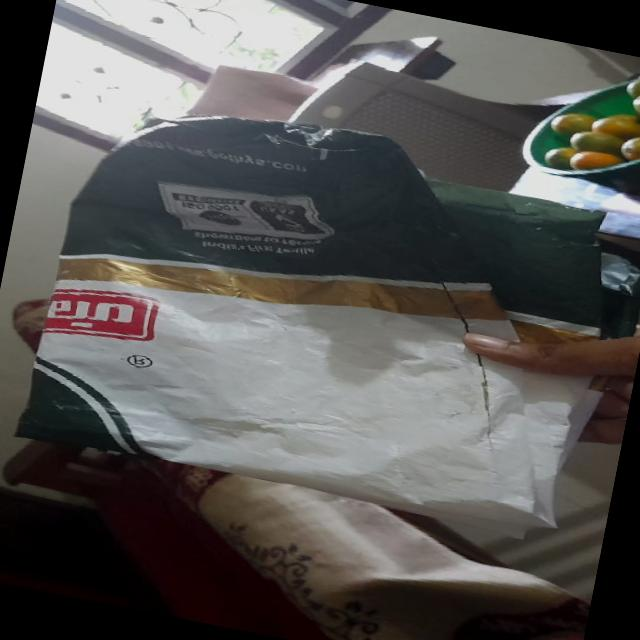Plastic - Recyclable: (11, 74, 640, 551)
